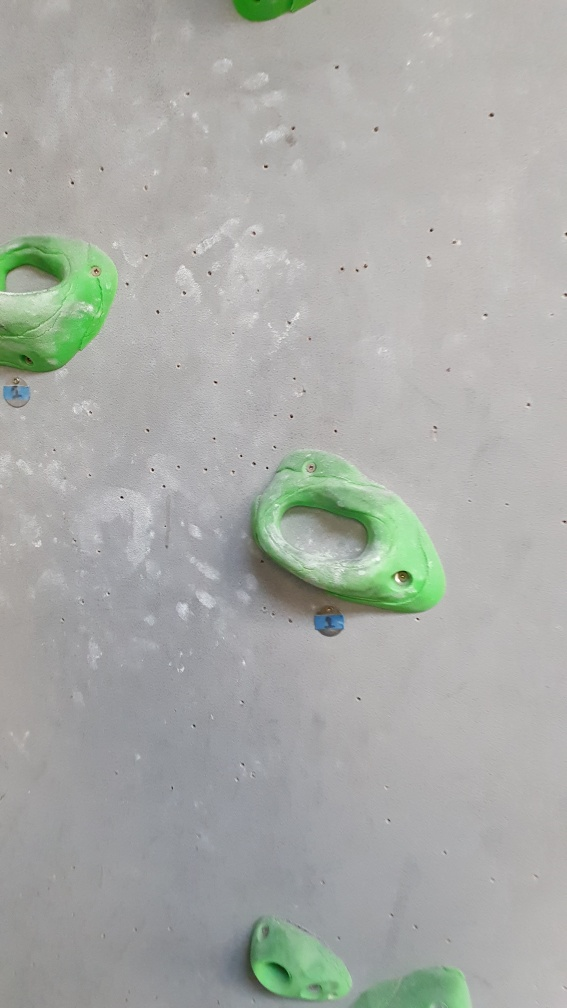Hand Start: (305, 600, 348, 643), (1, 375, 33, 415)
Pocket: (248, 444, 453, 620), (1, 230, 121, 372)
